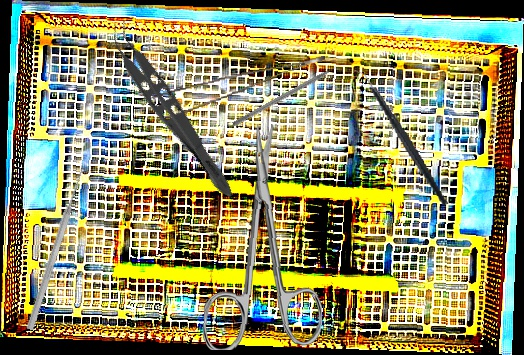Chopper: (350, 56, 450, 219)
Hook Surgical: (232, 62, 344, 128)
Iris Scissors: (202, 122, 329, 354)
Pusher: (24, 167, 88, 332)
Tissue Forceps: (97, 15, 251, 204), (150, 55, 331, 122)
